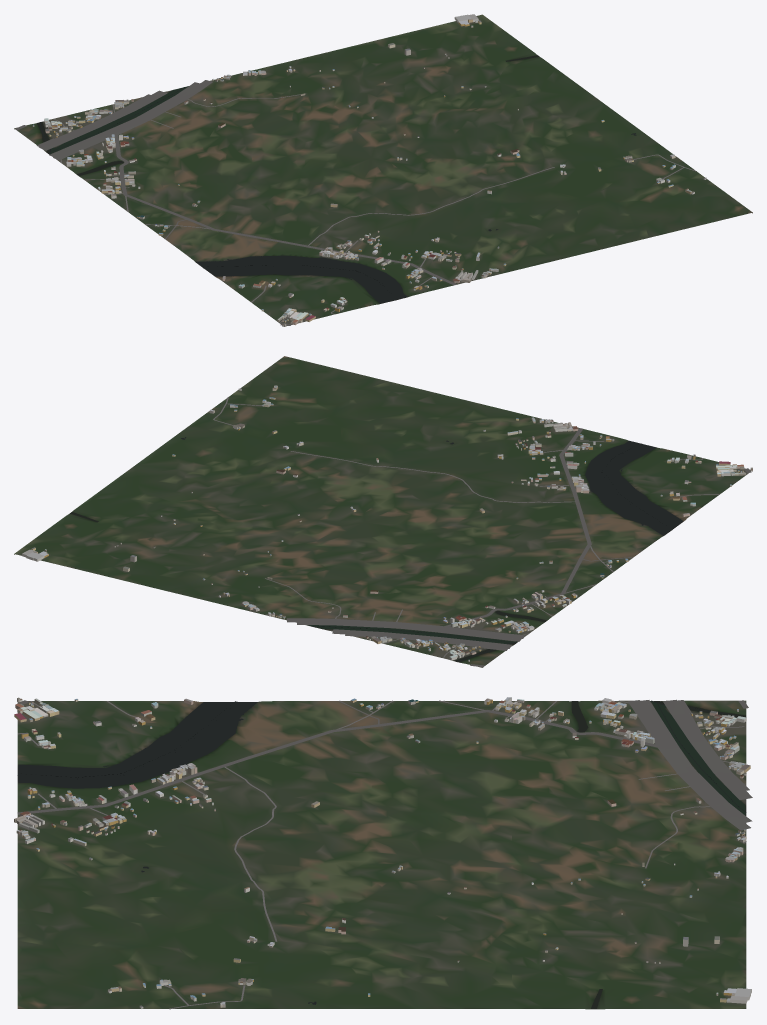
The picture shows the model from 3 angles, top to bottom: view 1: azimuth 30°, elevation 25°; view 2: azimuth 150°, elevation 25°; view 3: azimuth 270°, elevation 25°; orthographic projection. The views are drawn at different scales.
Parts seen in each view (by area): view 1: ground, buildings, water, roads; view 2: ground, buildings, water, roads; view 3: ground, buildings, water, roads.
Boxes of the visible parts, x1,y1,x2,y2 form: ground: (14,14,752,326); buildings: (32,14,706,326); water: (37,55,636,303); roads: (15,76,696,325); ground: (14,356,750,667); buildings: (22,385,752,661); water: (70,437,682,661); roads: (213,397,751,667); ground: (17,700,746,1009); buildings: (14,697,751,1008); water: (17,700,746,1008); roads: (17,699,752,1009).
Size of the model in its own units: 1406 by 19.67 by 1421.
